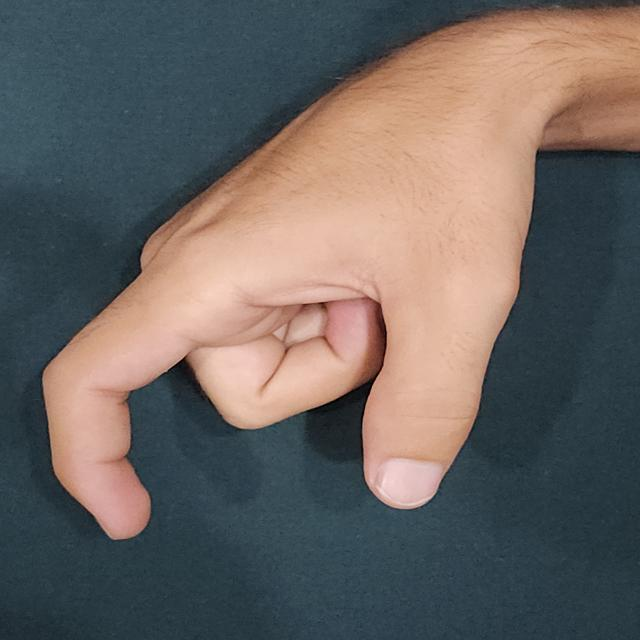ج: (34, 73, 545, 558)
